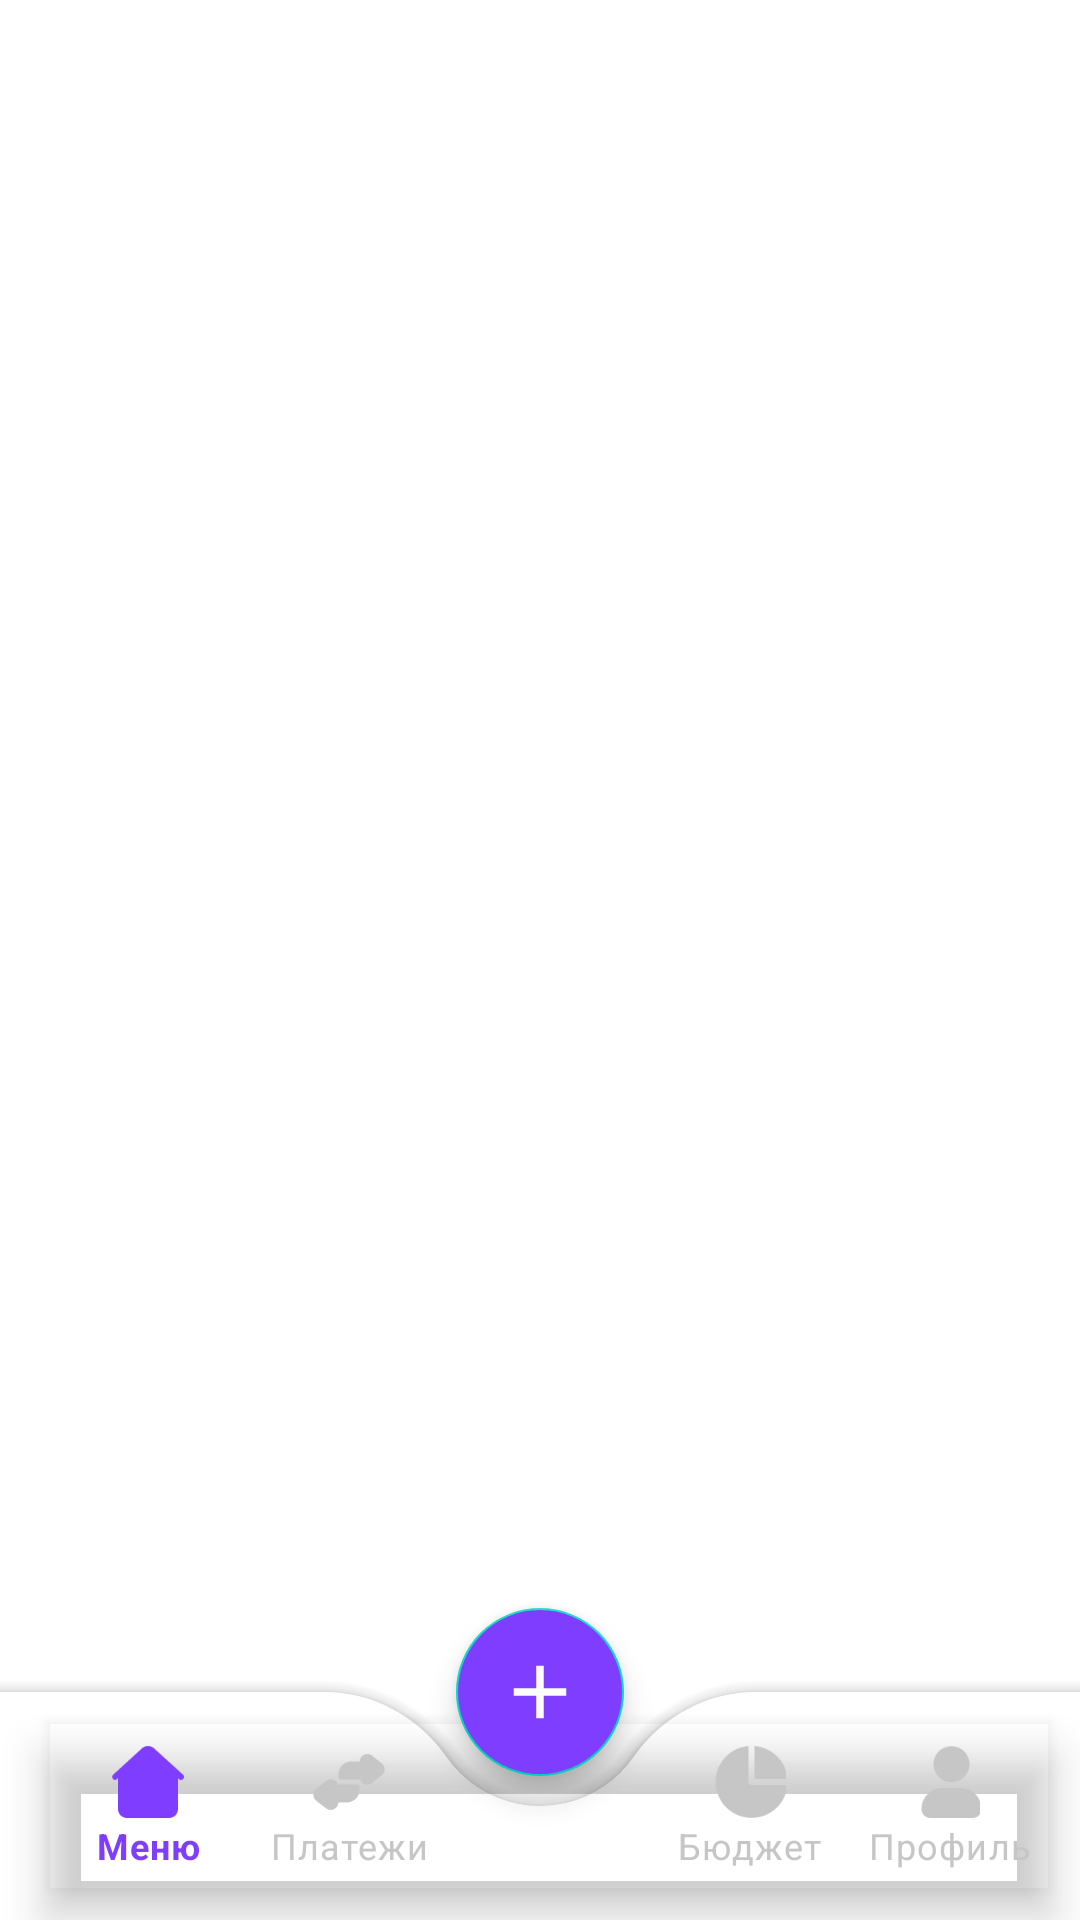

Where icons sit on this 1080px×1920px app screen, as bbox=(x1, y1, x2, y2):
add: bbox=(456, 1608, 624, 1776)
